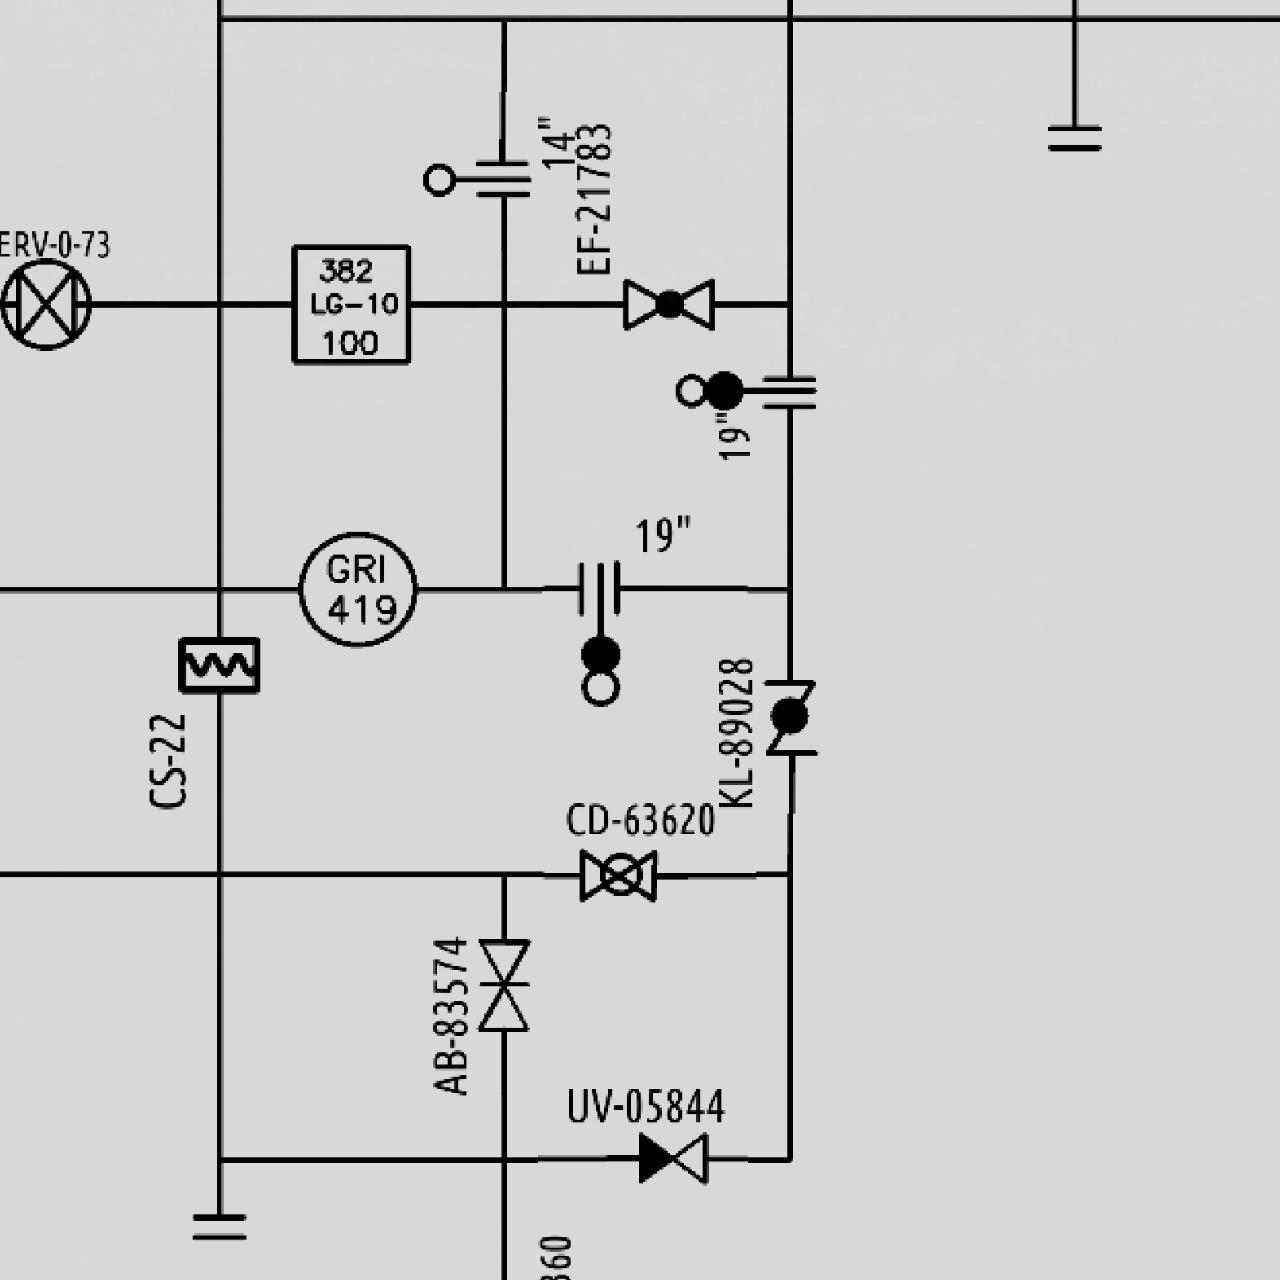Half closed valve: (633, 1126, 710, 1189)
